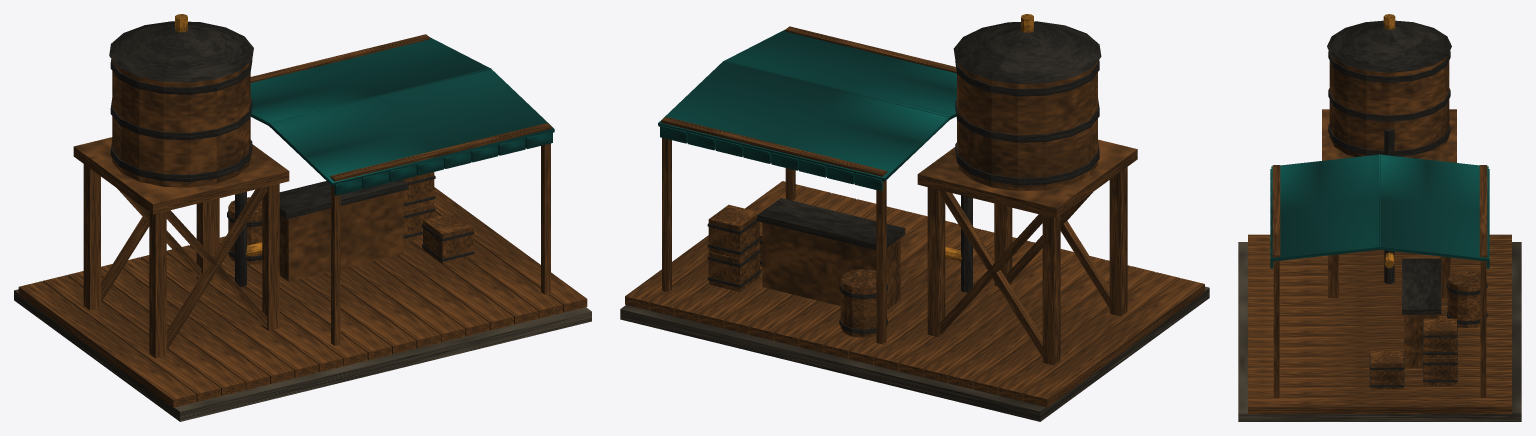
Rendered from west-way-station.glb.
3 views of the same model, side by side, from view 1: azimuth 30°, elevation 25°; view 2: azimuth 150°, elevation 25°; view 3: azimuth 270°, elevation 25° (orthographic). The views are drawn at different scales.
Visible parts, largest first — view 1: west-way-station; view 2: west-way-station; view 3: west-way-station.
Boxes of the visible parts, box(x1,y1,x2,y2) form: west-way-station: box(14, 14, 591, 421); west-way-station: box(620, 14, 1209, 421); west-way-station: box(1238, 14, 1521, 421).
Bounding box in the file's own units: 8.6 × 6.32 × 5.97.
1 material, 1 textured.
